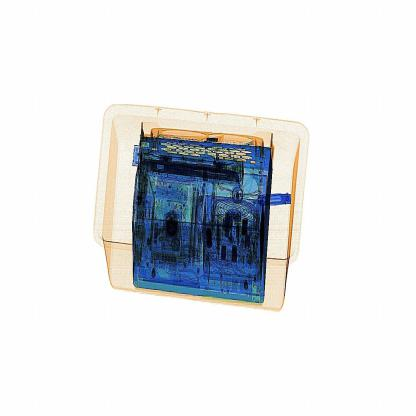knife: (256, 184, 302, 216)
